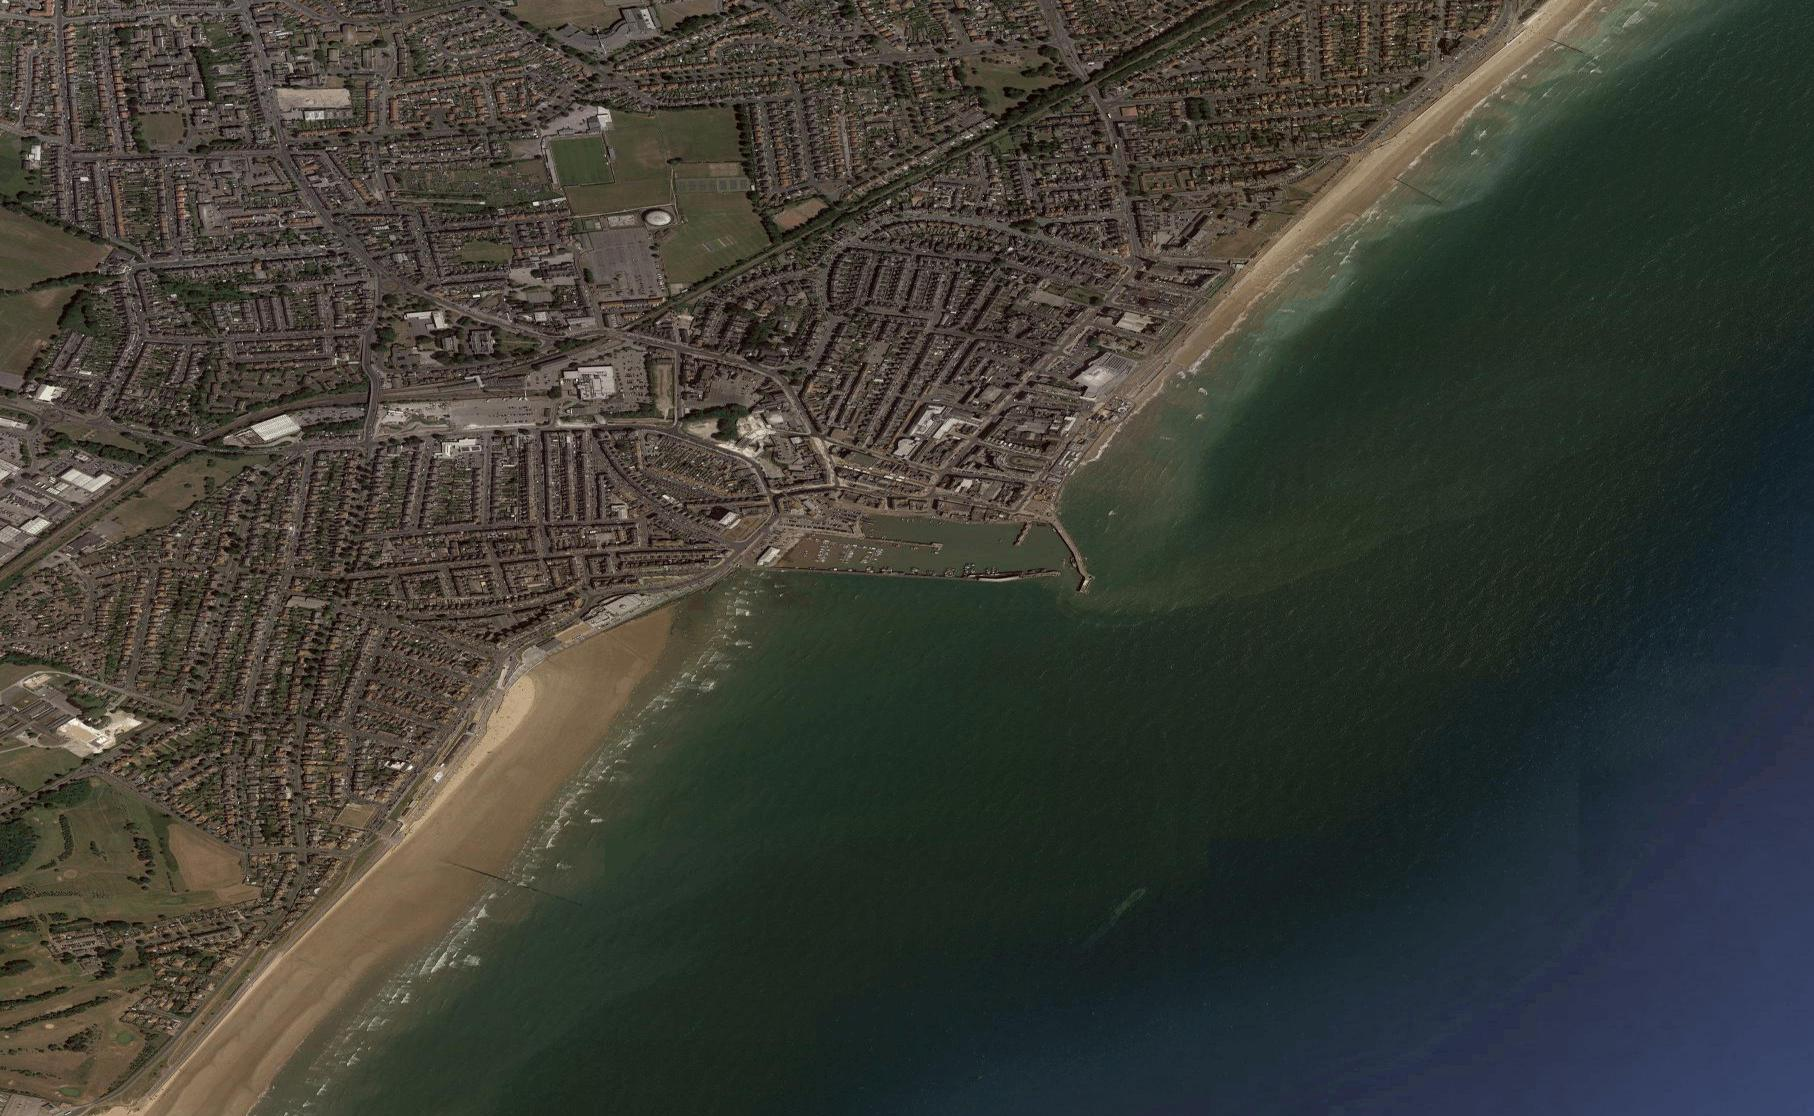bridge: (364, 378, 382, 404)
harbor: (752, 477, 1097, 614)
train_station: (451, 368, 536, 408)
